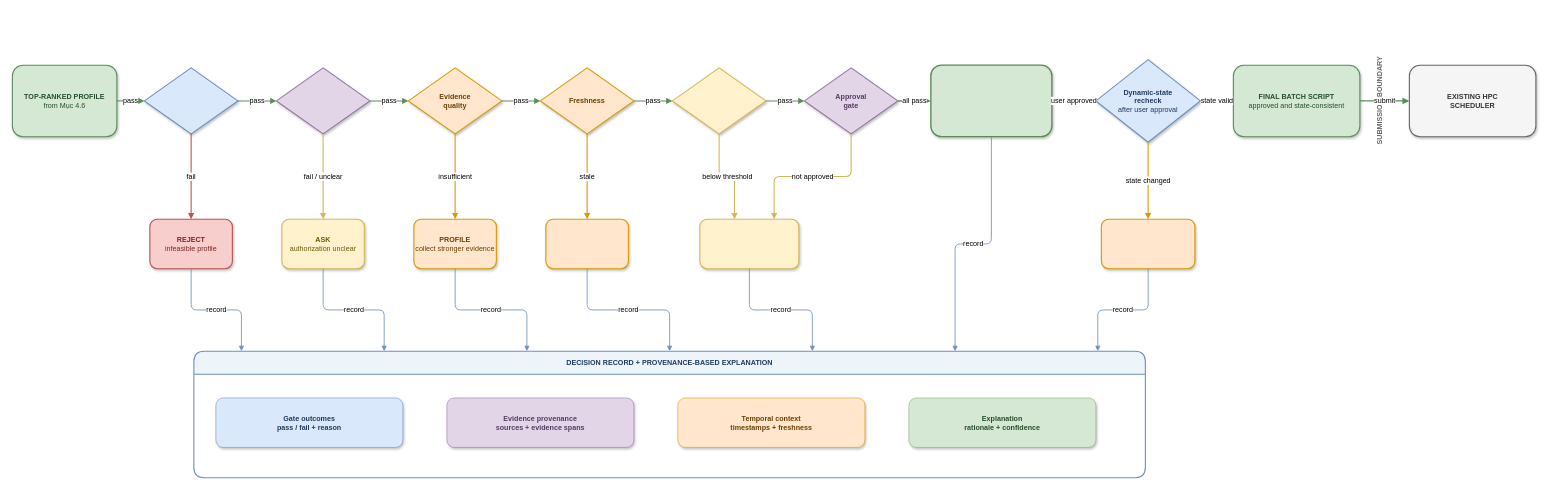
This 1549x487 diagram has some shape labels left out. The shapes that lost their labels are listed below. From the top down, each one's centre as x and y in pixels, then its label:
point (191, 101): Feasibility
point (323, 101): Intent authorization
point (719, 101): Minimum improvement
point (992, 101): RECOMMEND verified release decision
point (587, 244): REFRESH update stale evidence
point (749, 244): KEEP retain original profile
point (1148, 244): REFRESH / ASK dynamic state changed
